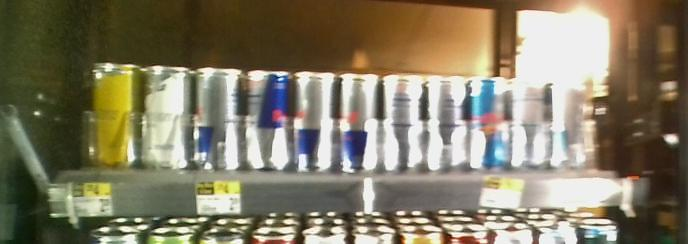bottle: (143, 56, 191, 174), (195, 57, 243, 175), (91, 57, 139, 170), (246, 61, 293, 176), (340, 64, 384, 186), (297, 64, 337, 186), (385, 69, 423, 184), (427, 68, 465, 183), (469, 71, 506, 180)
